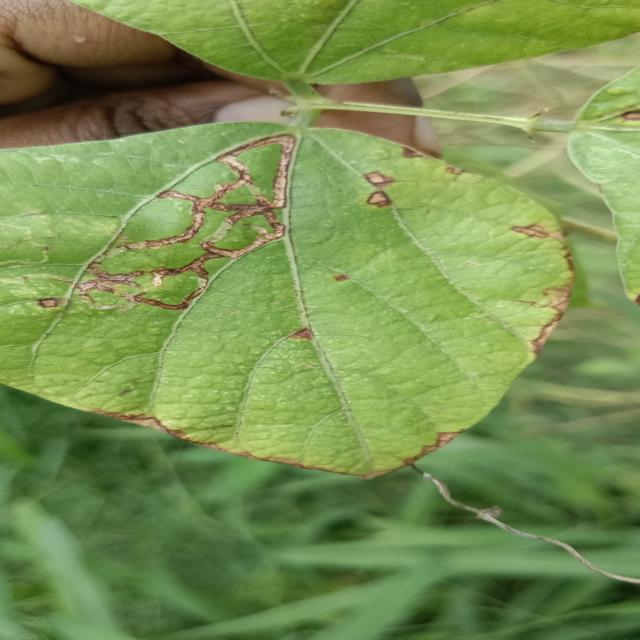Dolicos bean_cercospora leaf spot: (0, 118, 571, 480)
